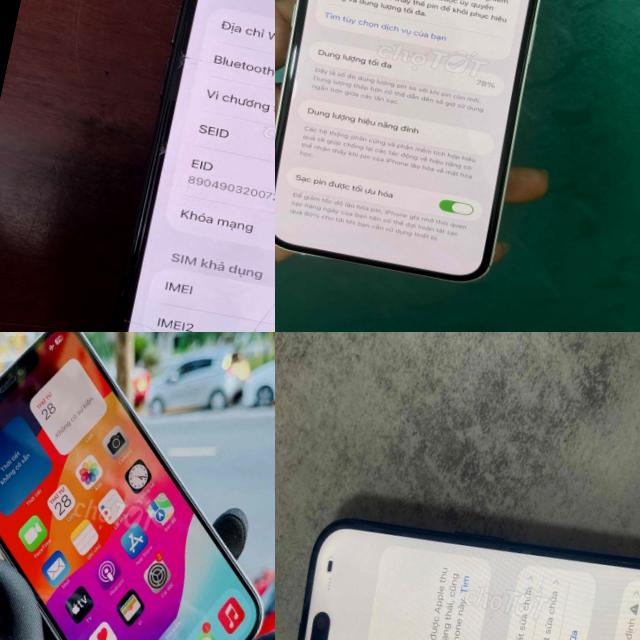physical_damage: (224, 303, 275, 332), (170, 48, 200, 70), (200, 54, 235, 72), (125, 312, 155, 332), (234, 60, 264, 78), (265, 268, 275, 310), (266, 58, 275, 77)
